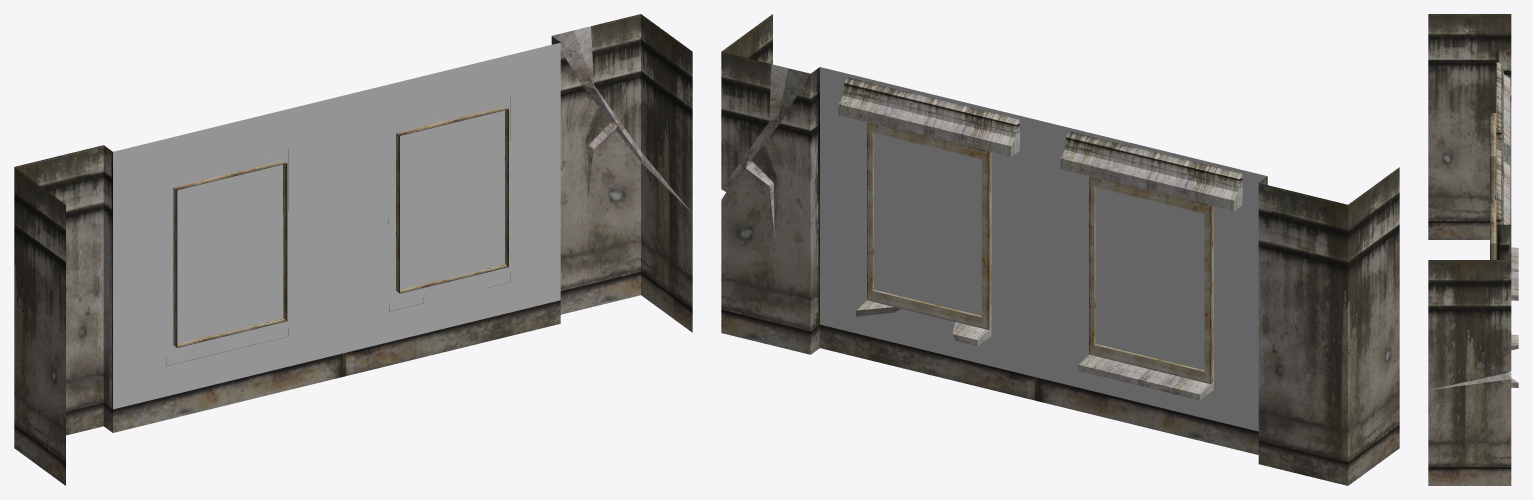
File: Store_front_2_B.fbx
3 renders of one model, left to right at view 1: azimuth 30°, elevation 25°; view 2: azimuth 150°, elevation 25°; view 3: azimuth 270°, elevation 25°, orthographic. The views are drawn at different scales.
Visible parts, largest first — view 1: Store_front_2_B; view 2: Store_front_2_B; view 3: Store_front_2_B.
Boxes of the visible parts, x1,y1,x2,y2 form: Store_front_2_B: (14,14,692,485); Store_front_2_B: (721,14,1399,485); Store_front_2_B: (1428,14,1518,485).
Size of the model in its own units: 700 by 300 by 109.
